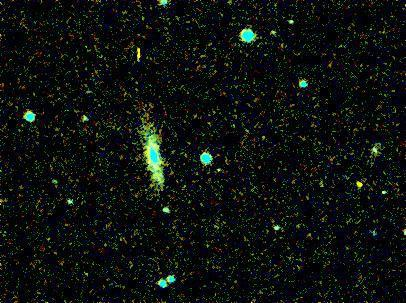star: (343, 170, 373, 200)
